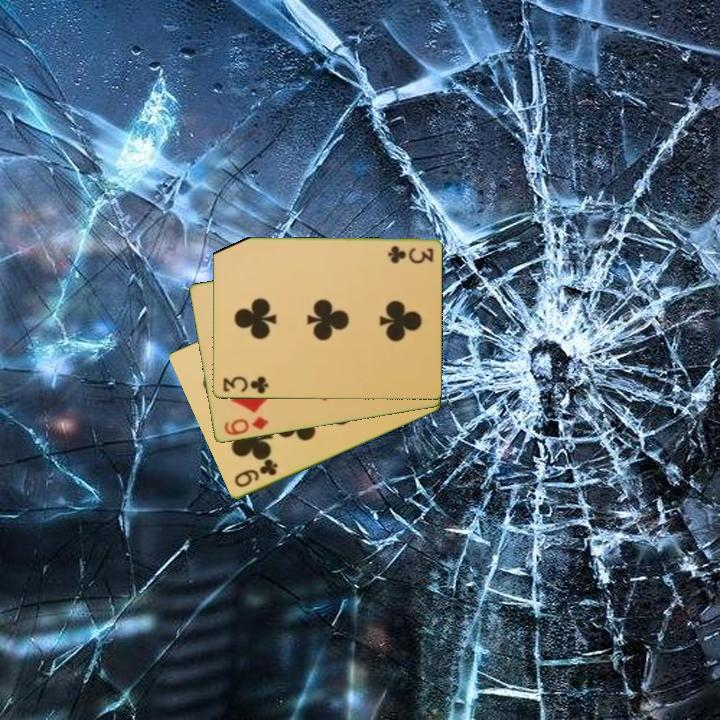3c: (220, 373, 271, 397), (384, 242, 436, 264)
6d: (220, 413, 271, 439)
9c: (231, 457, 281, 491)
